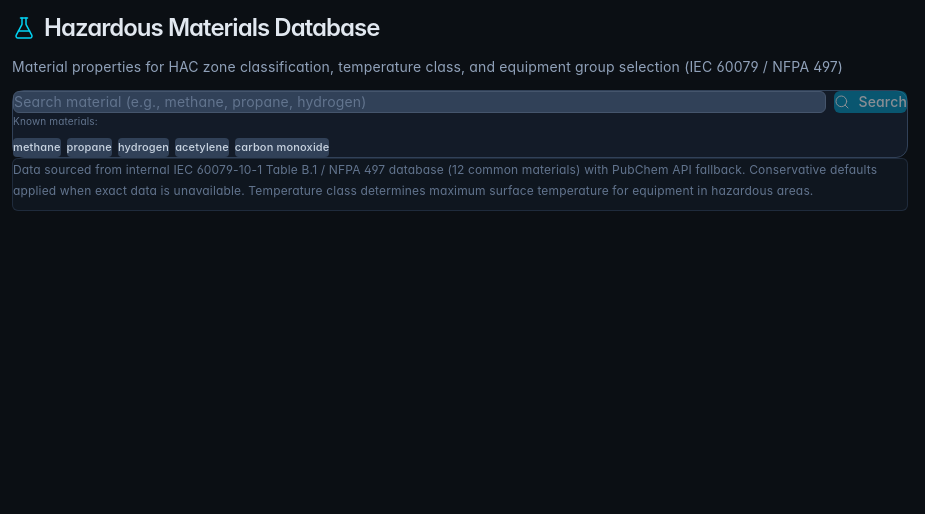
HazMatPage › searches material on Enter key
This screenshot has width=925, height=514.
In the field with placeholder "Search material (e.g., methane, propane, hydrogen)": (420, 102) [13,91,826,113], type "methane"
Then press Enter
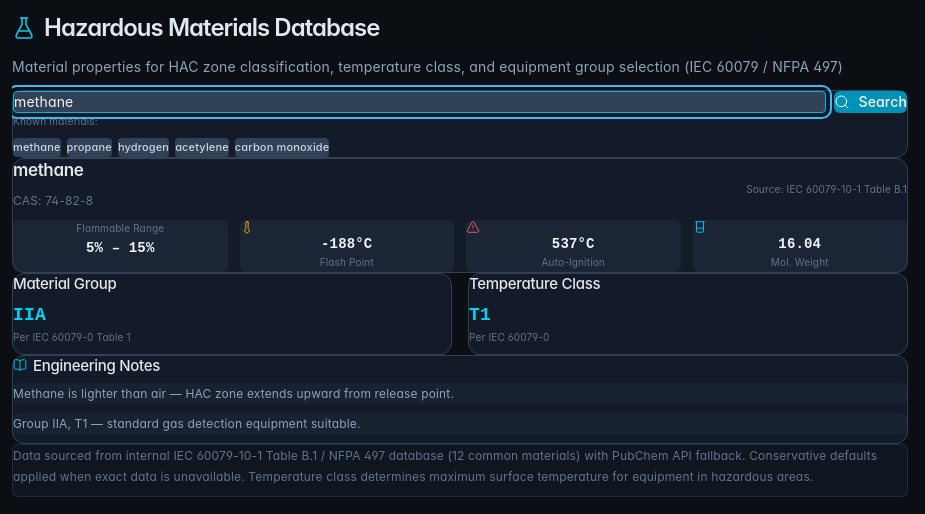
Result: the text "CAS: 74-82-8" is shown at [13,190,93,211]
